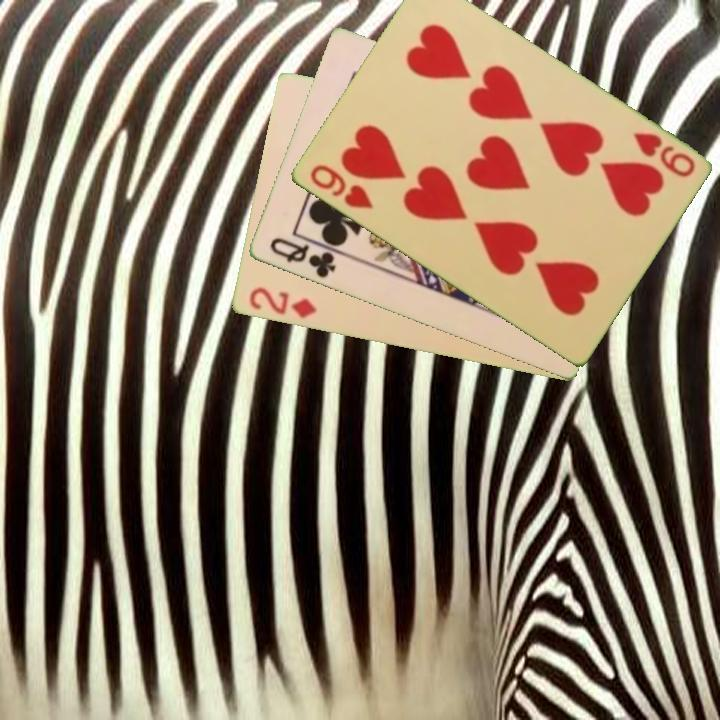2d: (245, 284, 319, 322)
9h: (629, 129, 698, 181), (305, 161, 375, 212)
Qc: (265, 234, 345, 281)
